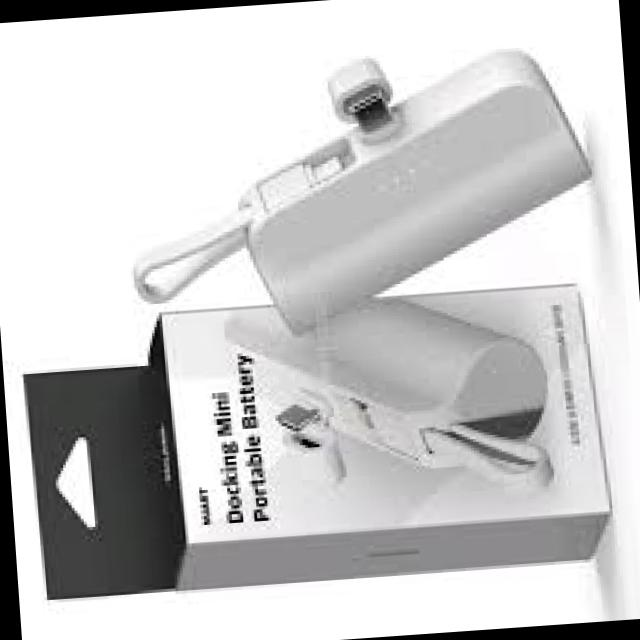portable-charger: (228, 35, 615, 332), (220, 287, 558, 508)
